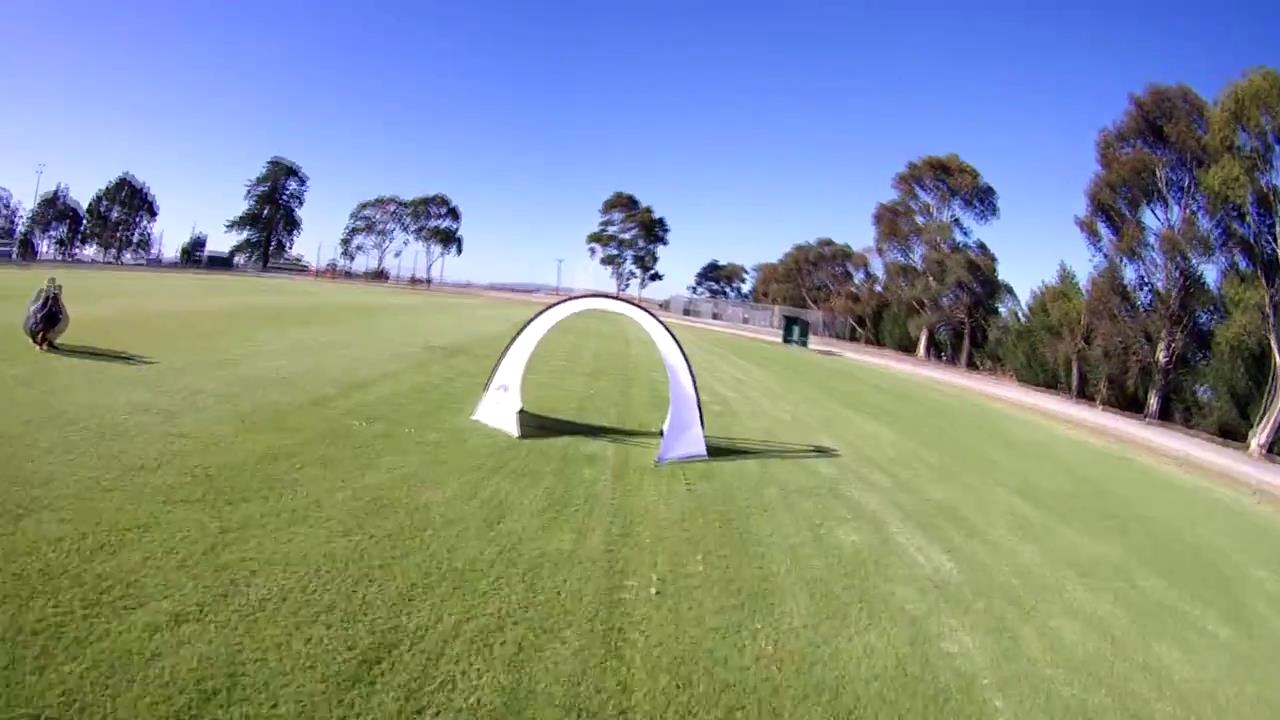gate: (465, 292, 713, 471)
